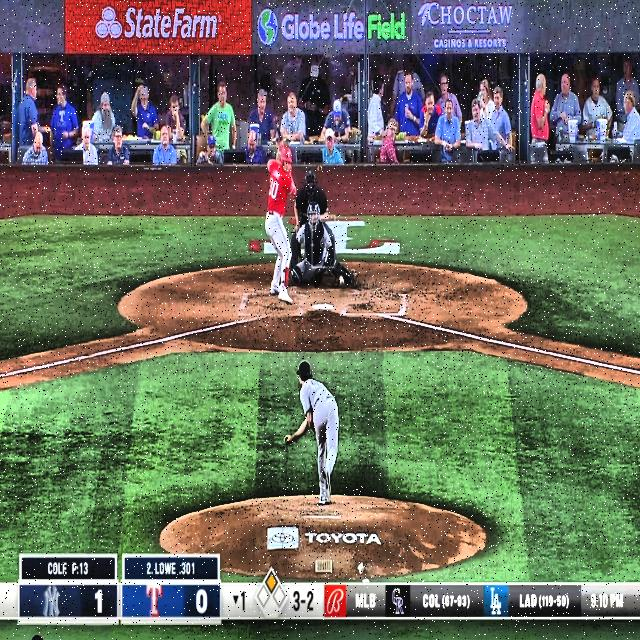baseball: (339, 274, 344, 285)
